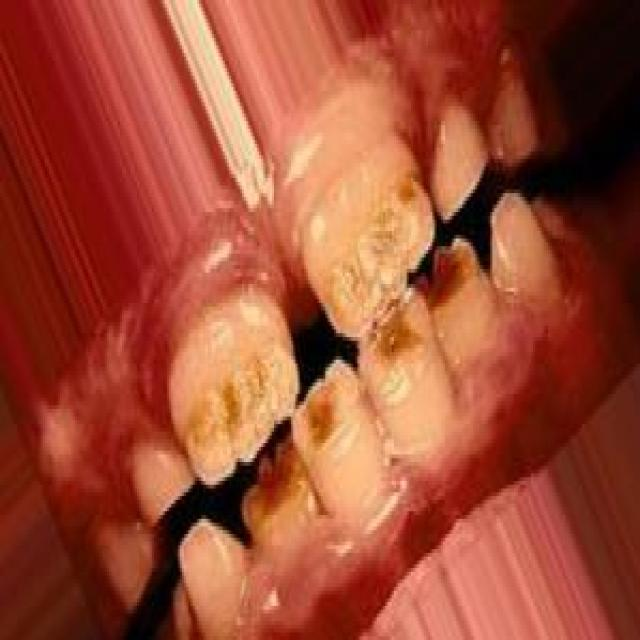caries: (322, 169, 432, 335), (186, 342, 290, 474), (291, 358, 359, 468), (243, 434, 314, 530), (365, 287, 425, 383), (419, 224, 477, 312)
